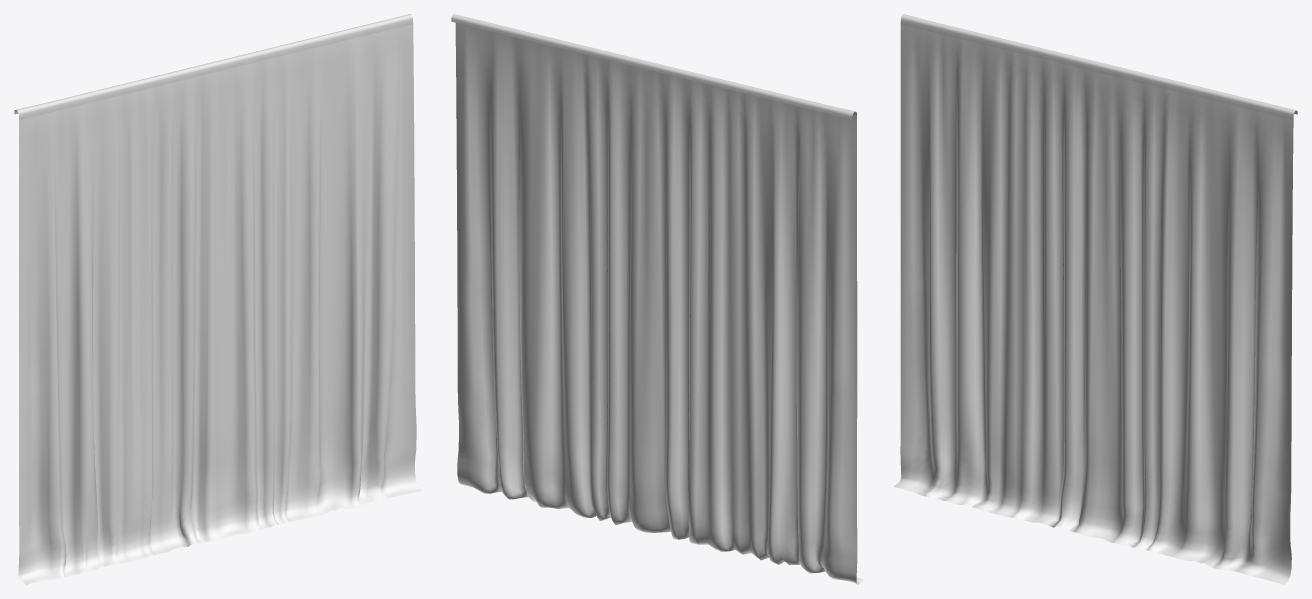
The model's file is PartyBackdrop01_3.FBX.
3 renders of one model, left to right at view 1: azimuth 30°, elevation 25°; view 2: azimuth 150°, elevation 25°; view 3: azimuth 330°, elevation 25°, orthographic. The views are drawn at different scales.
Visible parts, largest first — view 1: PartyBackdrop01_3; view 2: PartyBackdrop01_3; view 3: PartyBackdrop01_3.
Boxes of the visible parts, x1,y1,x2,y2 form: PartyBackdrop01_3: (14, 14, 422, 584); PartyBackdrop01_3: (451, 14, 864, 584); PartyBackdrop01_3: (893, 14, 1297, 584).
Size of what is drawn, in the model's own units: 3 by 3.41 by 0.1963.
